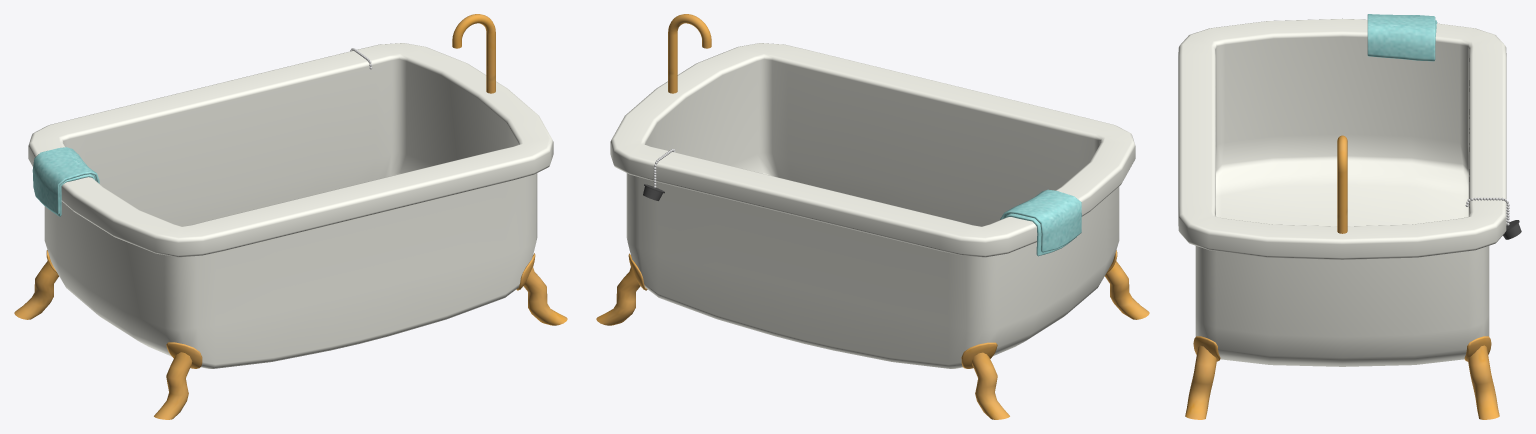
The model's file is bath.fbx.
3 renders of one model, left to right at view 1: azimuth 30°, elevation 25°; view 2: azimuth 150°, elevation 25°; view 3: azimuth 270°, elevation 25°, orthographic. The views are drawn at different scales.
Visible parts, largest first — view 1: bath; view 2: bath; view 3: bath.
Boxes of the visible parts, <box> form: bath: <box>14,14,567,419</box>; bath: <box>596,14,1149,419</box>; bath: <box>1178,14,1521,419</box>.
Size of the model in its own units: 7.27 by 4.12 by 4.68.
Materials: 1 (1 with a texture image).
